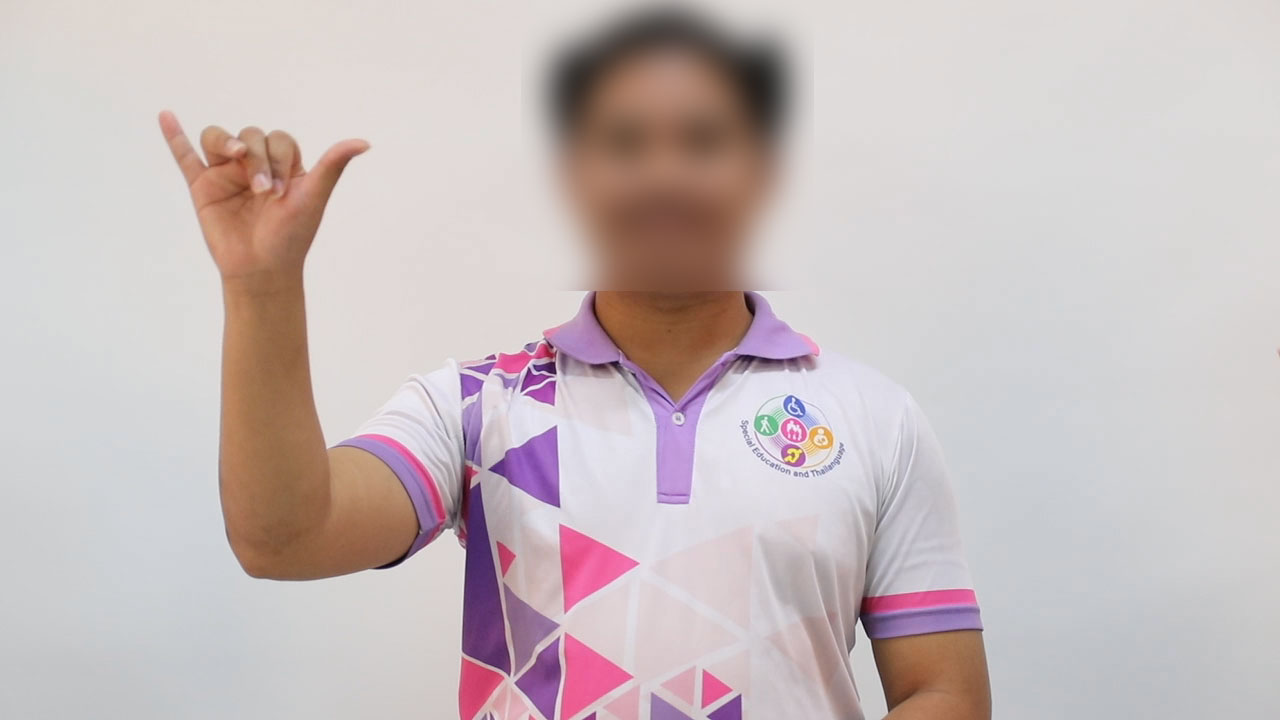yor: (141, 96, 384, 283)
